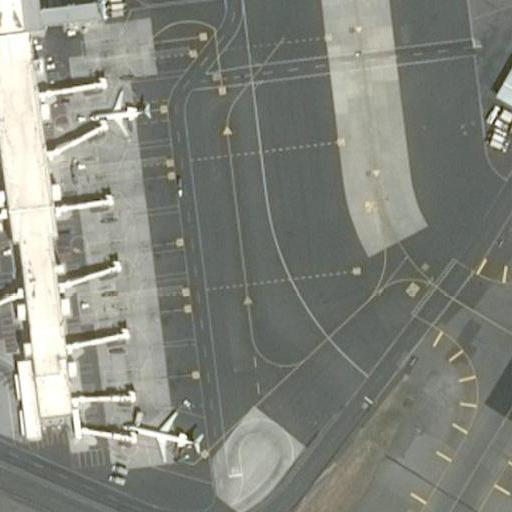Aircraft: (122, 407, 197, 458), (87, 86, 154, 136)
